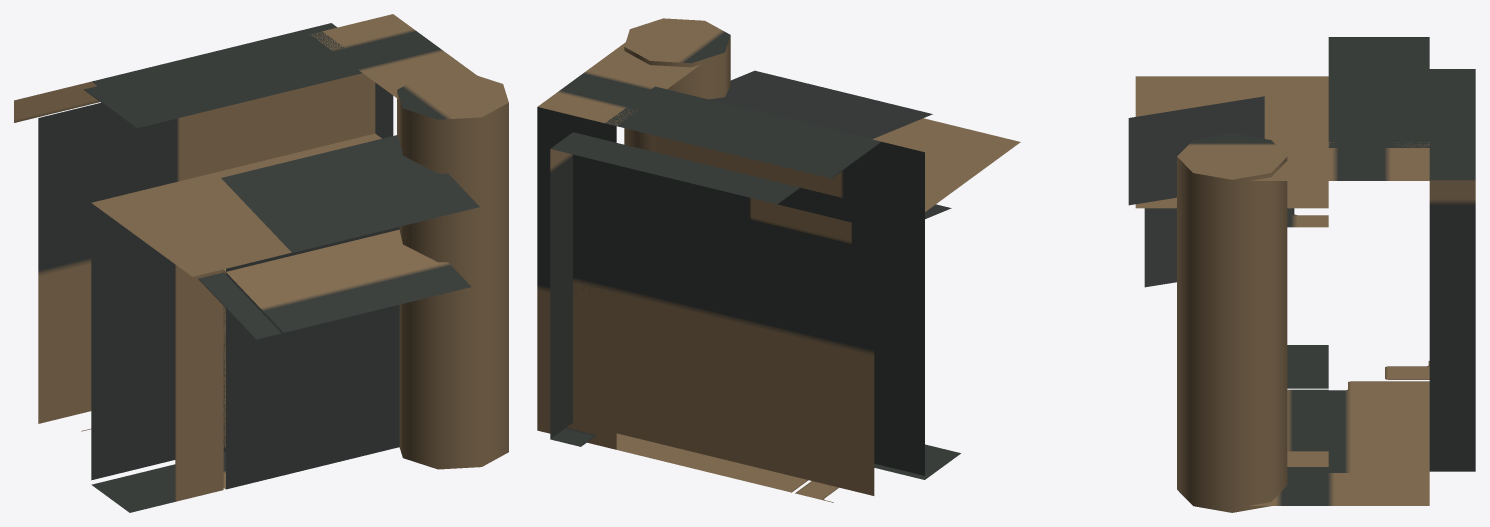
The model's file is section-5.obj.
The picture shows the model from 3 angles, left to right: view 1: azimuth 30°, elevation 25°; view 2: azimuth 150°, elevation 25°; view 3: azimuth 270°, elevation 25°; orthographic projection. The views are drawn at different scales.
Size of the model in its own units: 0.865 by 0.8 by 0.865.
